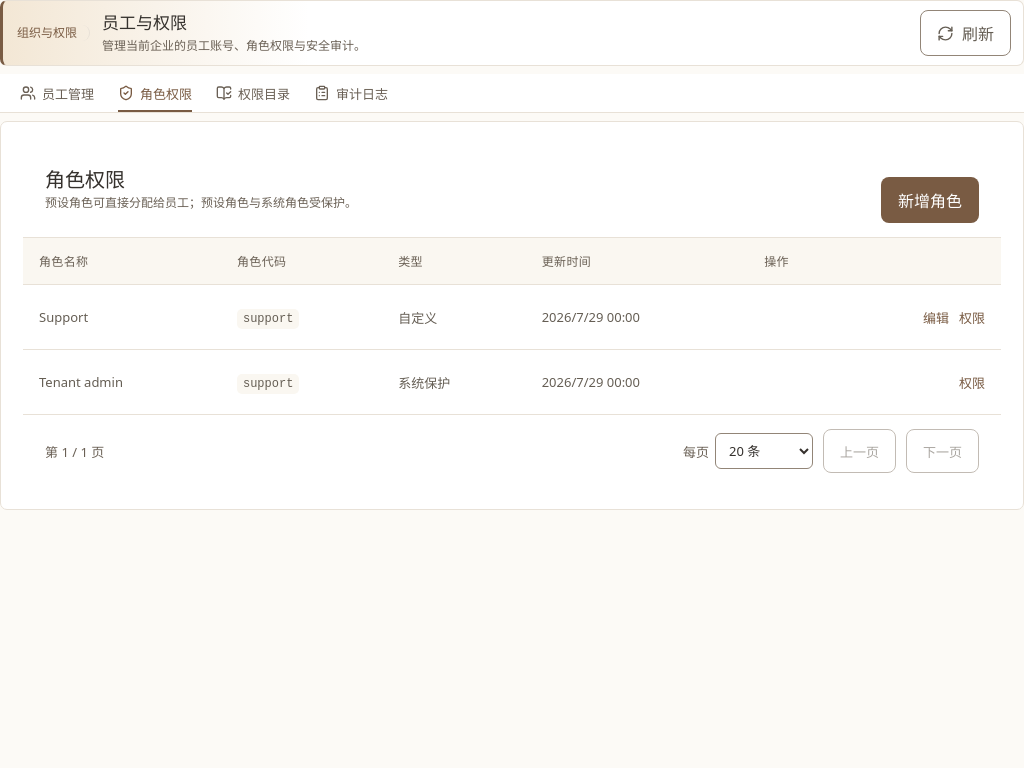
IAM console assignment and session loops › loads permissions only with permission read and protects system roles
Click the button "权限" in the row of "Tenant admin" at [972, 382], box [959,364,985,400]
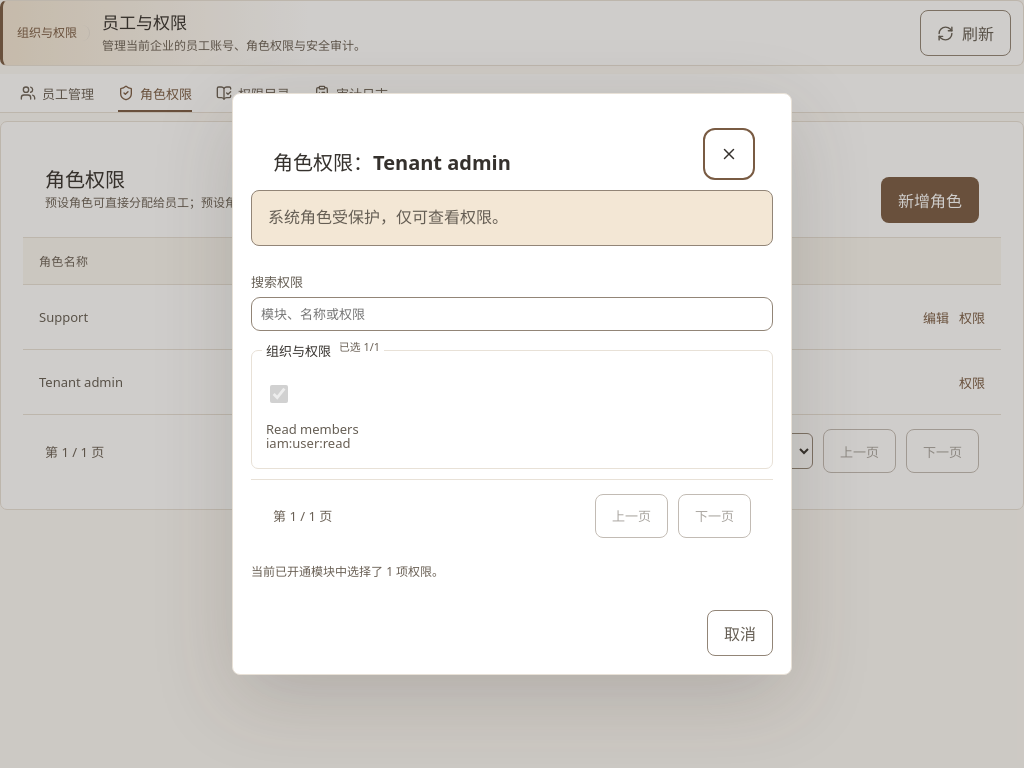
expect the dialog "角色权限：Tenant admin" is shown: met, box [232,94,792,675]
expect the text "系统角色受保护，仅可查看权限。" is shown: met, box [251,190,773,246]
